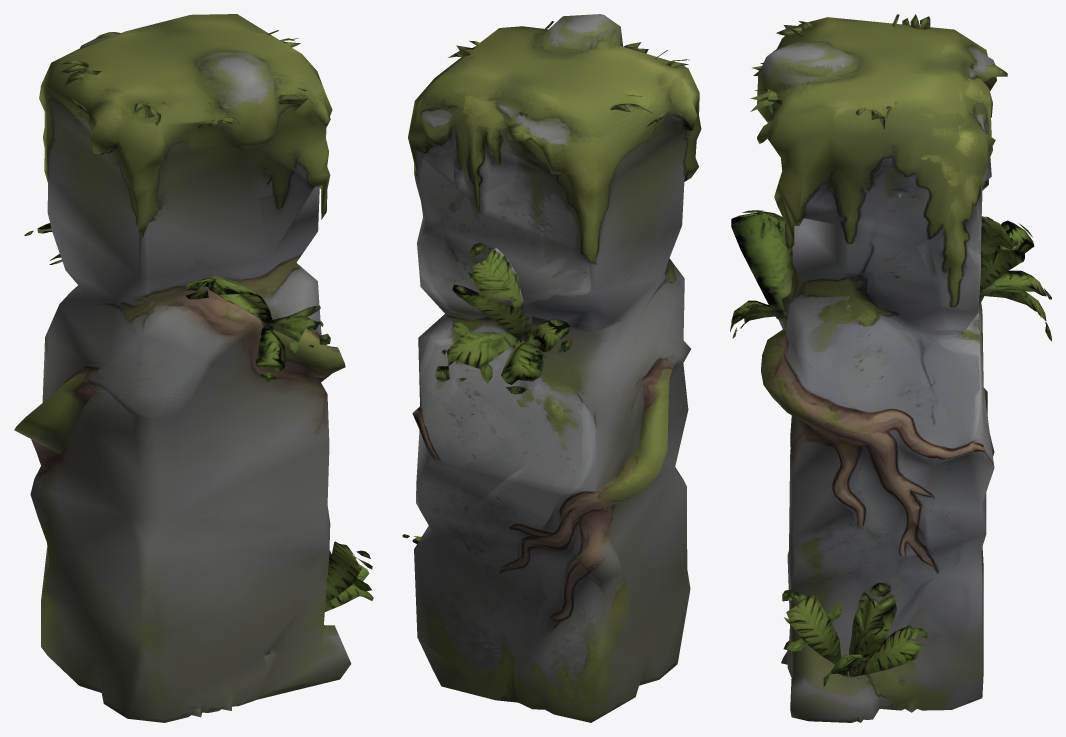
The model's file is wallstone_tripo.glb.
3 views of the same model, side by side, from view 1: azimuth 30°, elevation 25°; view 2: azimuth 150°, elevation 25°; view 3: azimuth 270°, elevation 25° (orthographic). The views are drawn at different scales.
Parts seen in each view (by area): view 1: tripo_node_85d83c15-89ce-4165-973b-c7d58038980b; view 2: tripo_node_85d83c15-89ce-4165-973b-c7d58038980b; view 3: tripo_node_85d83c15-89ce-4165-973b-c7d58038980b.
Boxes of the visible parts, <box> form: tripo_node_85d83c15-89ce-4165-973b-c7d58038980b: <box>14,14,373,722</box>; tripo_node_85d83c15-89ce-4165-973b-c7d58038980b: <box>402,14,701,722</box>; tripo_node_85d83c15-89ce-4165-973b-c7d58038980b: <box>730,14,1051,722</box>.
Bounding box in the file's own units: 0.5098 × 0.998 × 0.4707.
Materials: 1 (1 with a texture image).
